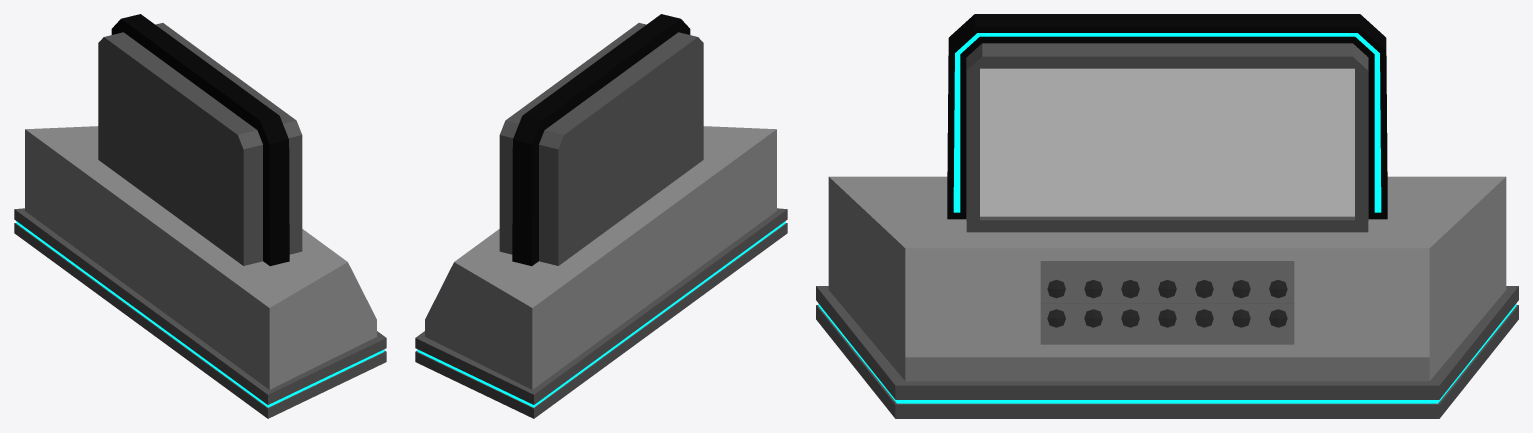
File: corrupt file puzzle.fbx
The picture shows the model from 3 angles, left to right: view 1: azimuth 30°, elevation 25°; view 2: azimuth 150°, elevation 25°; view 3: azimuth 270°, elevation 25°; orthographic projection. The views are drawn at different scales.
Parts seen in each view (by area): view 1: Cube; view 2: Cube; view 3: Cube, Cube.002, Cube.001.
Part boxes in pixels (x1,y1,x2,y2): Cube: (14,14,386,418); Cube: (415,14,787,418); Cube: (816,14,1518,418); Cube.002: (1040,261,1294,303); Cube.001: (1040,304,1294,344).
Bounding box in the file's own units: 291 × 461 × 868.
